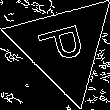P_E: (34, 22, 93, 71)
